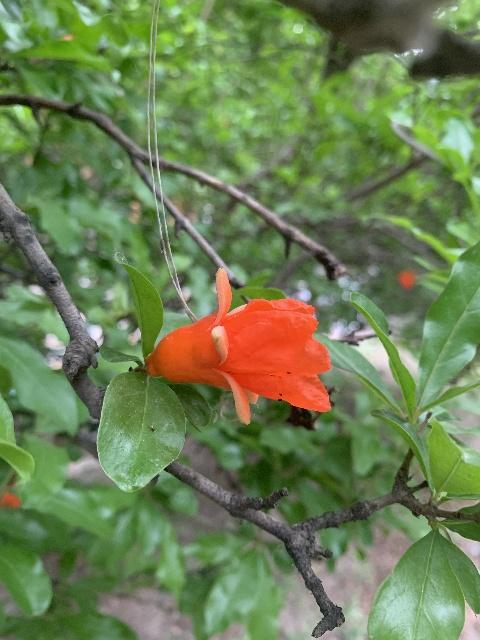flower: (151, 268, 333, 423)
